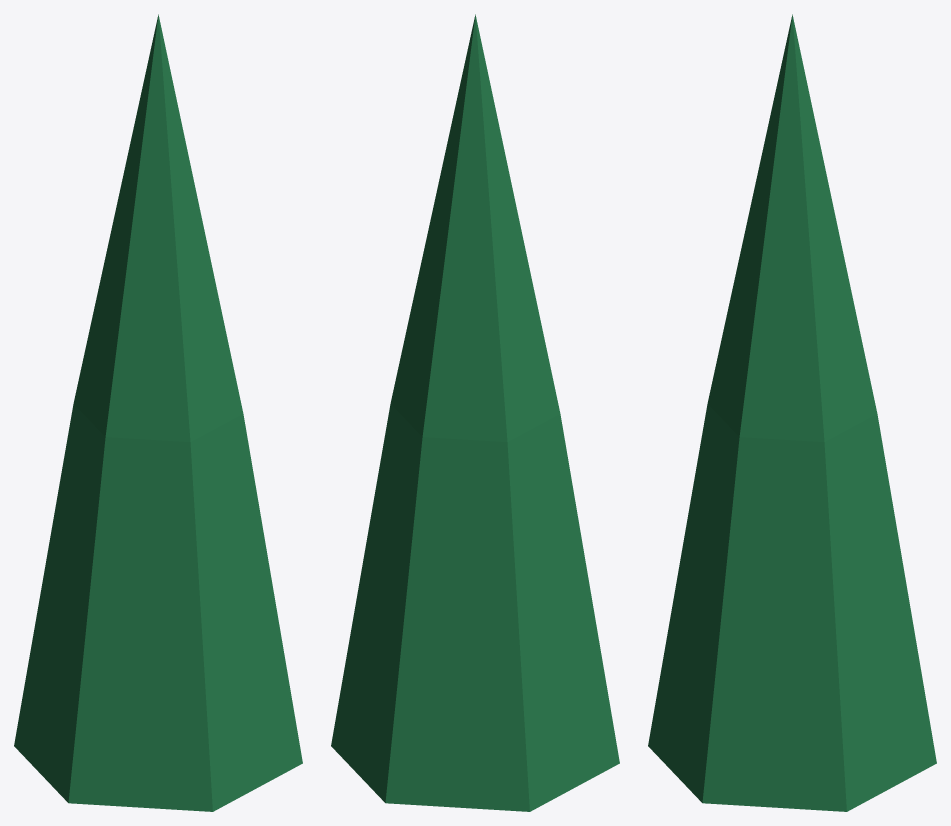
File: Vegetation_Vine_Tree_Thorns_Spike_Green_Small_02.FBX
3 views of the same model, side by side, from view 1: azimuth 30°, elevation 25°; view 2: azimuth 150°, elevation 25°; view 3: azimuth 270°, elevation 25° (orthographic).
Parts seen in each view (by area): view 1: Vegetation_Vine_Tree_Thorns_Spike_Green_Small_02; view 2: Vegetation_Vine_Tree_Thorns_Spike_Green_Small_02; view 3: Vegetation_Vine_Tree_Thorns_Spike_Green_Small_02.
Boxes of the visible parts, x1,y1,x2,y2 form: Vegetation_Vine_Tree_Thorns_Spike_Green_Small_02: (14, 14, 302, 811); Vegetation_Vine_Tree_Thorns_Spike_Green_Small_02: (331, 14, 619, 811); Vegetation_Vine_Tree_Thorns_Spike_Green_Small_02: (648, 14, 936, 811).
Size of the model in its own units: 84.63 by 255 by 90.31.
